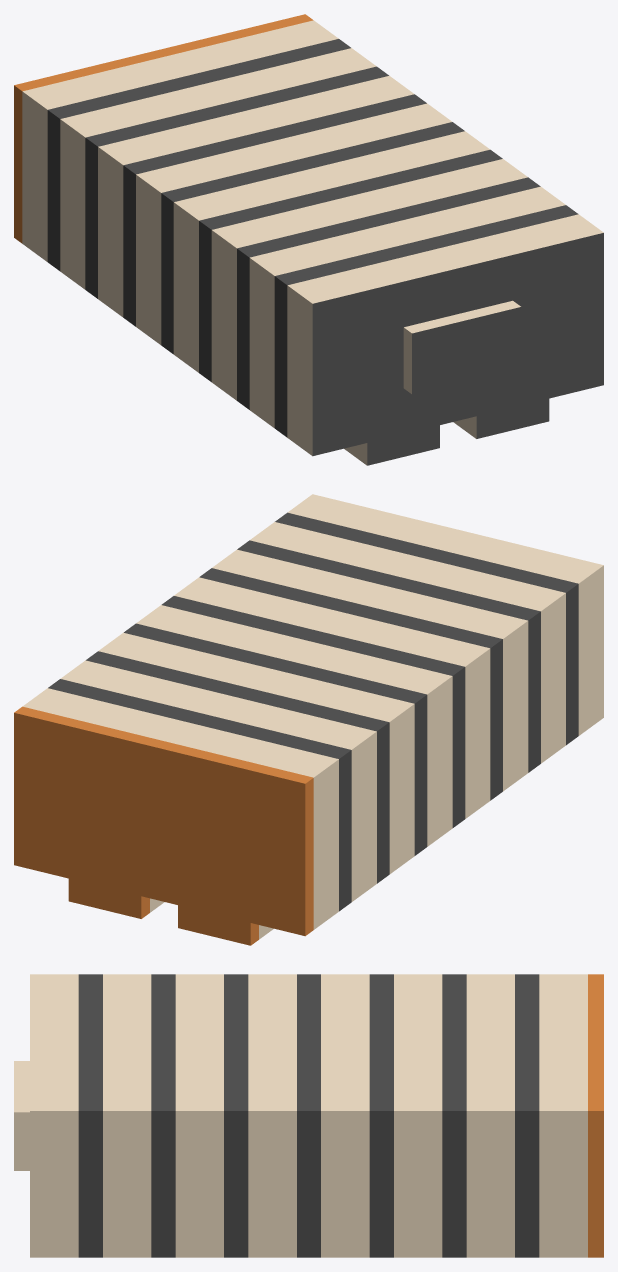
Rendered from building_2.dae.
The picture shows the model from 3 angles, top to bottom: view 1: azimuth 30°, elevation 25°; view 2: azimuth 150°, elevation 25°; view 3: azimuth 270°, elevation 25°; orthographic projection. The views are drawn at different scales.
Visible parts, largest first — view 1: coords_ME_ID3_MA_material_12, coords_ME_ID11_MA_material, coords_ME_ID111_MA_material, coords_ME_ID37_MA_material, coords_ME_ID19_MA_material, coords_ME_ID75_MA_material, coords_ME_ID57_MA_material, coords_ME_ID31_MA_material, coords_ME_ID25_MA_material, coords_ME_ID81_MA_material, coords_ME_ID49_MA_material_10, coords_ME_ID63_MA_material_12; view 2: coords_ME_ID3_MA_material_12, coords_ME_ID49_MA_material_10, coords_ME_ID57_MA_material, coords_ME_ID75_MA_material, coords_ME_ID81_MA_material, coords_ME_ID37_MA_material, coords_ME_ID31_MA_material, coords_ME_ID25_MA_material, coords_ME_ID19_MA_material; view 3: coords_ME_ID3_MA_material_12, coords_ME_ID81_MA_material, coords_ME_ID57_MA_material, coords_ME_ID37_MA_material, coords_ME_ID31_MA_material, coords_ME_ID25_MA_material, coords_ME_ID19_MA_material, coords_ME_ID75_MA_material, coords_ME_ID49_MA_material_10, coords_ME_ID63_MA_material_12.
Boxes of the visible parts, x1=… form: coords_ME_ID3_MA_material_12: x1=22, y1=20, x2=603, y2=465; coords_ME_ID11_MA_material: x1=312, y1=233, x2=603, y2=465; coords_ME_ID111_MA_material: x1=412, y1=307, x2=521, y2=394; coords_ME_ID37_MA_material: x1=47, y1=39, x2=350, y2=271; coords_ME_ID19_MA_material: x1=274, y1=205, x2=578, y2=437; coords_ME_ID75_MA_material: x1=161, y1=122, x2=464, y2=354; coords_ME_ID57_MA_material: x1=123, y1=94, x2=426, y2=326; coords_ME_ID31_MA_material: x1=199, y1=149, x2=502, y2=381; coords_ME_ID25_MA_material: x1=85, y1=66, x2=388, y2=298; coords_ME_ID81_MA_material: x1=237, y1=177, x2=540, y2=409; coords_ME_ID49_MA_material_10: x1=14, y1=14, x2=313, y2=243; coords_ME_ID63_MA_material_12: x1=403, y1=300, x2=520, y2=393; coords_ME_ID3_MA_material_12: x1=23, y1=494, x2=603, y2=939; coords_ME_ID49_MA_material_10: x1=14, y1=706, x2=313, y2=945; coords_ME_ID57_MA_material: x1=124, y1=623, x2=427, y2=855; coords_ME_ID75_MA_material: x1=161, y1=596, x2=465, y2=827; coords_ME_ID81_MA_material: x1=237, y1=540, x2=540, y2=772; coords_ME_ID37_MA_material: x1=48, y1=679, x2=351, y2=911; coords_ME_ID31_MA_material: x1=199, y1=568, x2=502, y2=800; coords_ME_ID25_MA_material: x1=86, y1=651, x2=389, y2=883; coords_ME_ID19_MA_material: x1=275, y1=512, x2=578, y2=745; coords_ME_ID3_MA_material_12: x1=30, y1=974, x2=587, y2=1257; coords_ME_ID81_MA_material: x1=151, y1=974, x2=175, y2=1257; coords_ME_ID57_MA_material: x1=369, y1=974, x2=393, y2=1257; coords_ME_ID37_MA_material: x1=515, y1=974, x2=539, y2=1257; coords_ME_ID31_MA_material: x1=224, y1=974, x2=248, y2=1257; coords_ME_ID25_MA_material: x1=442, y1=974, x2=466, y2=1257; coords_ME_ID19_MA_material: x1=78, y1=974, x2=102, y2=1257; coords_ME_ID75_MA_material: x1=297, y1=974, x2=320, y2=1257; coords_ME_ID49_MA_material_10: x1=588, y1=974, x2=603, y2=1257; coords_ME_ID63_MA_material_12: x1=14, y1=1061, x2=29, y2=1170.
Size of the model in its own units: 126 by 72.44 by 230.
